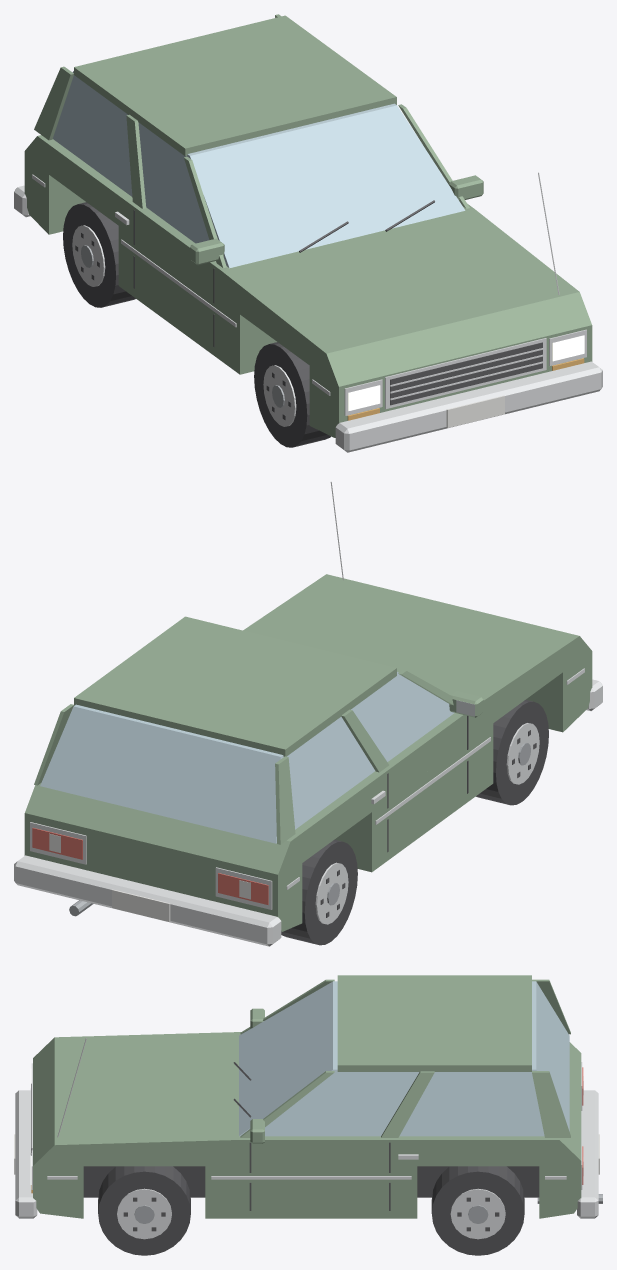
Rendered from car_hatch_g.glb.
3 views of the same model, one above another, from view 1: azimuth 30°, elevation 25°; view 2: azimuth 150°, elevation 25°; view 3: azimuth 270°, elevation 25° (orthographic). The views are drawn at different scales.
Parts seen in each view (by area): view 1: car_hatch_g_car_g, car_hatch_g_glass, car_hatch_g_chrome, car_hatch_g_rubber, car_hatch_g_dark, car_hatch_g_lamp_glass, car_hatch_g_paint_w; view 2: car_hatch_g_car_g, car_hatch_g_glass, car_hatch_g_chrome, car_hatch_g_rubber, car_hatch_g_neon_r, car_hatch_g_paint_w, car_hatch_g_steel; view 3: car_hatch_g_car_g, car_hatch_g_glass, car_hatch_g_rubber, car_hatch_g_chrome, car_hatch_g_dark, car_hatch_g_steel.
Boxes of the visible parts, x1,y1,x2,y2 form: car_hatch_g_car_g: (24, 14, 592, 437); car_hatch_g_glass: (53, 71, 465, 268); car_hatch_g_chrome: (14, 172, 602, 452); car_hatch_g_rubber: (63, 202, 330, 447); car_hatch_g_dark: (75, 200, 542, 420); car_hatch_g_lamp_glass: (348, 335, 584, 410); car_hatch_g_paint_w: (446, 395, 504, 427); car_hatch_g_car_g: (24, 574, 592, 931); car_hatch_g_glass: (40, 672, 454, 843); car_hatch_g_chrome: (14, 481, 602, 946); car_hatch_g_rubber: (281, 699, 548, 945); car_hatch_g_neon_r: (32, 828, 268, 904); car_hatch_g_paint_w: (49, 833, 250, 921); car_hatch_g_steel: (69, 742, 530, 916); car_hatch_g_car_g: (33, 975, 581, 1218); car_hatch_g_glass: (239, 981, 569, 1136); car_hatch_g_rubber: (83, 1166, 539, 1255); car_hatch_g_chrome: (15, 1038, 598, 1239); car_hatch_g_dark: (31, 1062, 499, 1231); car_hatch_g_steel: (134, 1194, 602, 1223).
Bounding box in the file's own units: 2 × 1.6 × 4.06.
